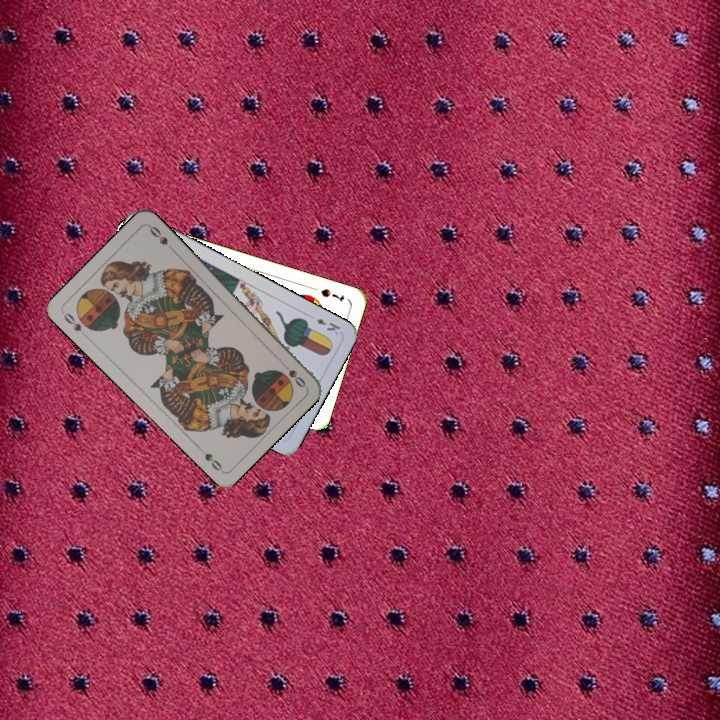EK: (312, 314, 343, 338)
S7: (317, 285, 347, 304)
SO: (276, 357, 308, 390), (59, 309, 91, 341)
